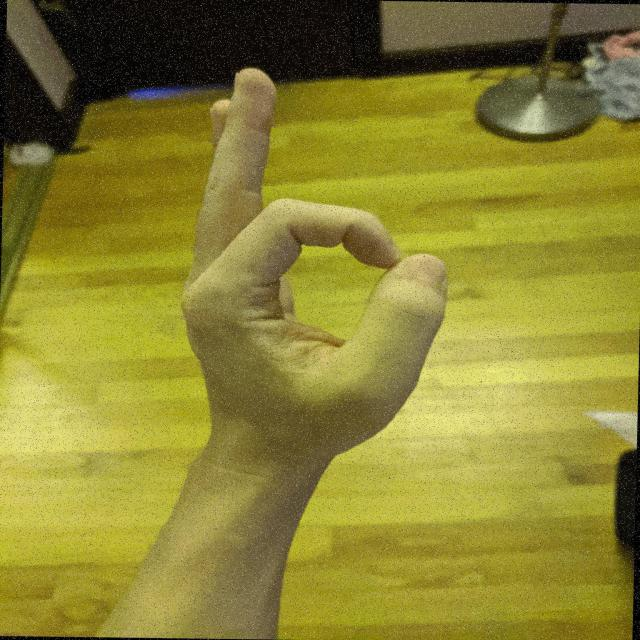F: (168, 63, 460, 462)
